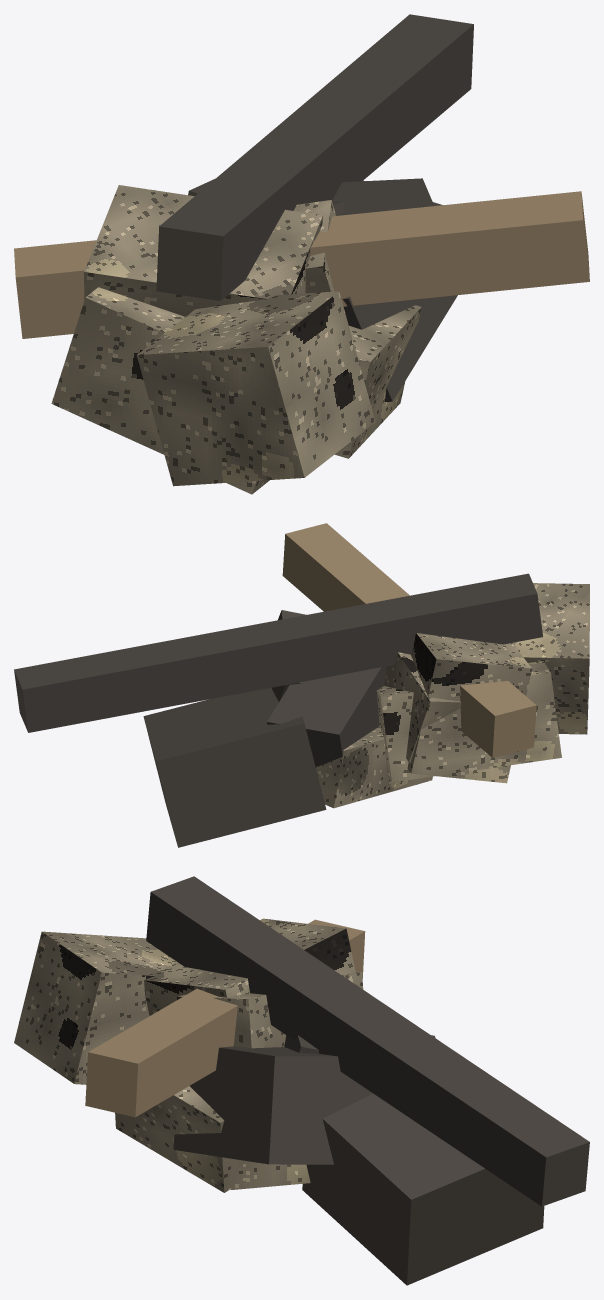
The model's file is rubble_debris_small.glb.
3 views of the same model, one above another, from view 1: azimuth 30°, elevation 25°; view 2: azimuth 150°, elevation 25°; view 3: azimuth 270°, elevation 25° (orthographic). The views are drawn at different scales.
Parts seen in each view (by area): view 1: rubble_debris_small; view 2: rubble_debris_small; view 3: rubble_debris_small.
Boxes of the visible parts, bbox=[...] form: rubble_debris_small: bbox=[14, 14, 589, 494]; rubble_debris_small: bbox=[14, 523, 589, 847]; rubble_debris_small: bbox=[14, 876, 589, 1285].
Size of the model in its own units: 1.21 by 0.5751 by 1.21.
3 materials, 1 textured.
